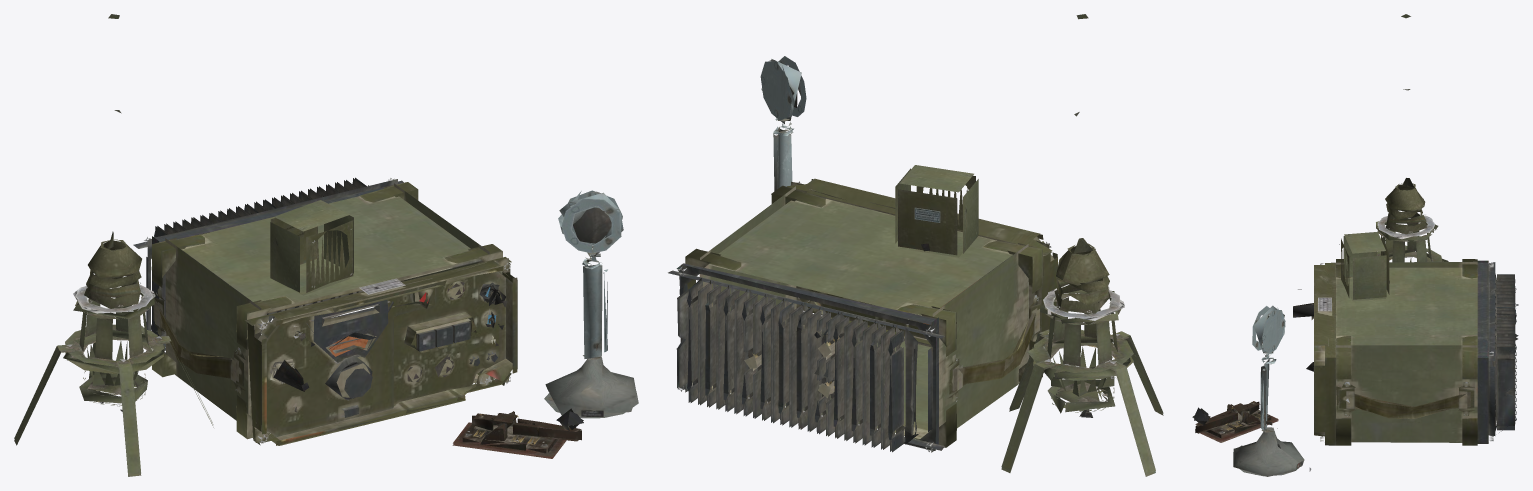
Rendered from vintage_radio_transceiver.glb.
3 views of the same model, side by side, from view 1: azimuth 30°, elevation 25°; view 2: azimuth 150°, elevation 25°; view 3: azimuth 270°, elevation 25° (orthographic). The views are drawn at different scales.
Parts seen in each view (by area): view 1: CC0_vintage_radio_transceiver; view 2: CC0_vintage_radio_transceiver; view 3: CC0_vintage_radio_transceiver.
Part boxes in pixels (<box>): CC0_vintage_radio_transceiver: <box>14,14,638,476</box>; CC0_vintage_radio_transceiver: <box>668,14,1163,476</box>; CC0_vintage_radio_transceiver: <box>1192,14,1518,476</box>.
Bounding box in the file's own units: 0.5658 × 0.4402 × 0.4176.
Materials: 2 (2 with a texture image).
